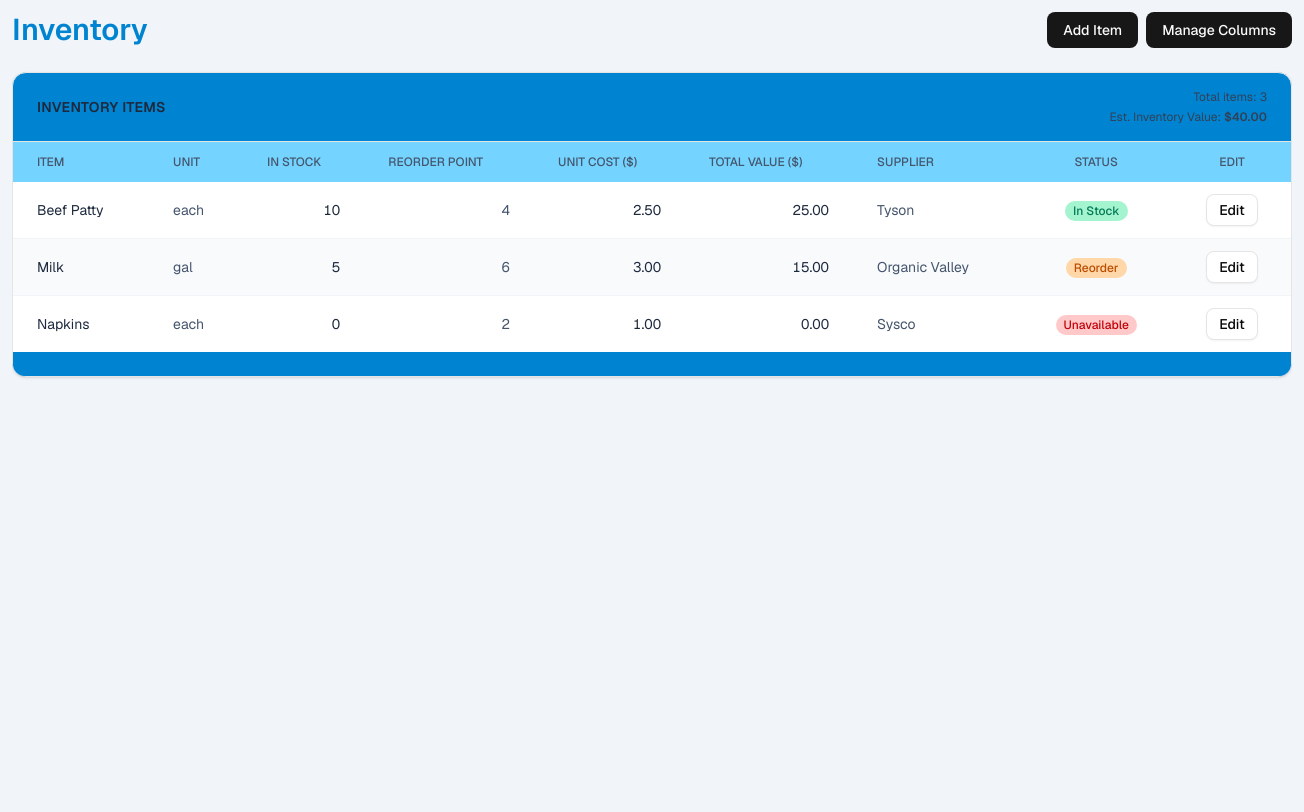
Test: InventoryPage › creates a new inventory item
Expected: the text "Beef Patty" is shown, [13, 182, 149, 238]
Click the button "Add Item" at (1093, 30), box [1047, 12, 1138, 48]
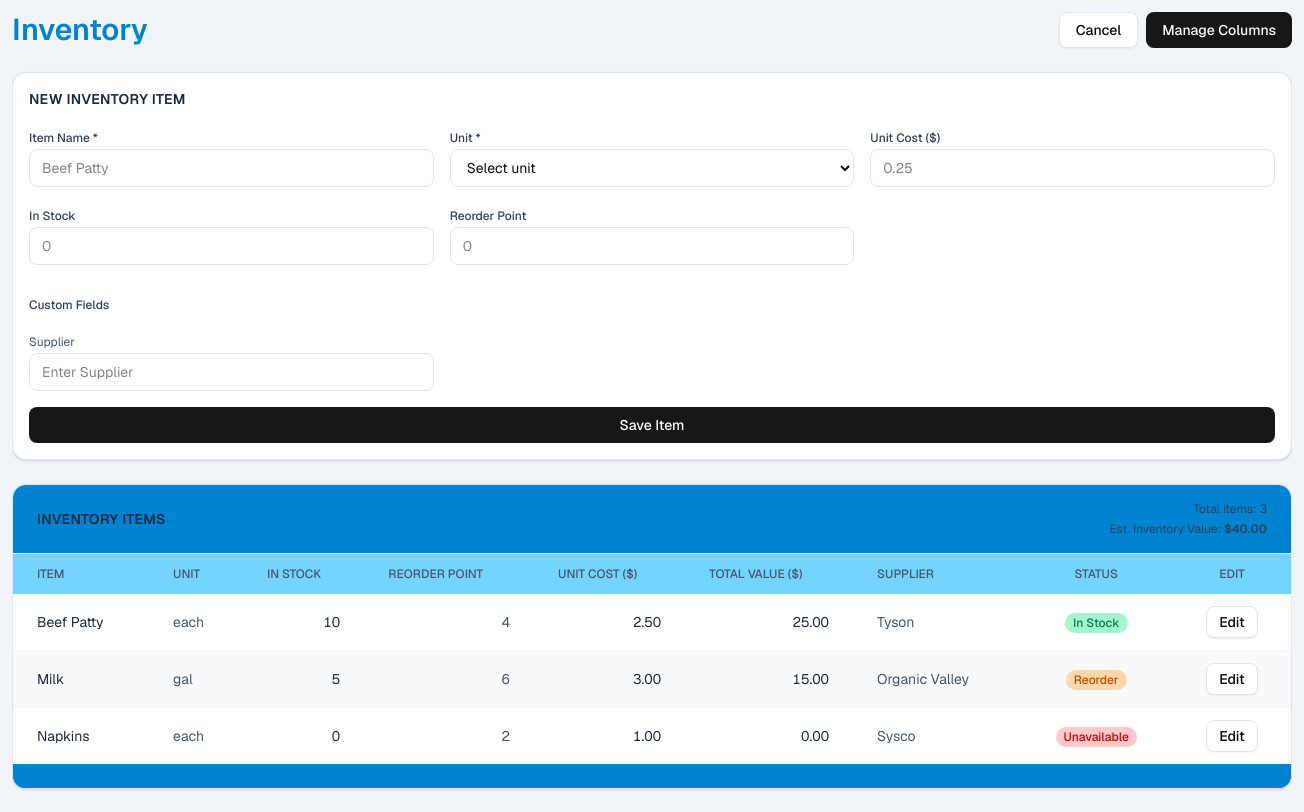
Type "Cheese" into the field with placeholder "Beef Patty" at (231, 168), box [29, 149, 434, 187]
Select "lb" in the dropdown at (652, 168), box [450, 149, 854, 187]
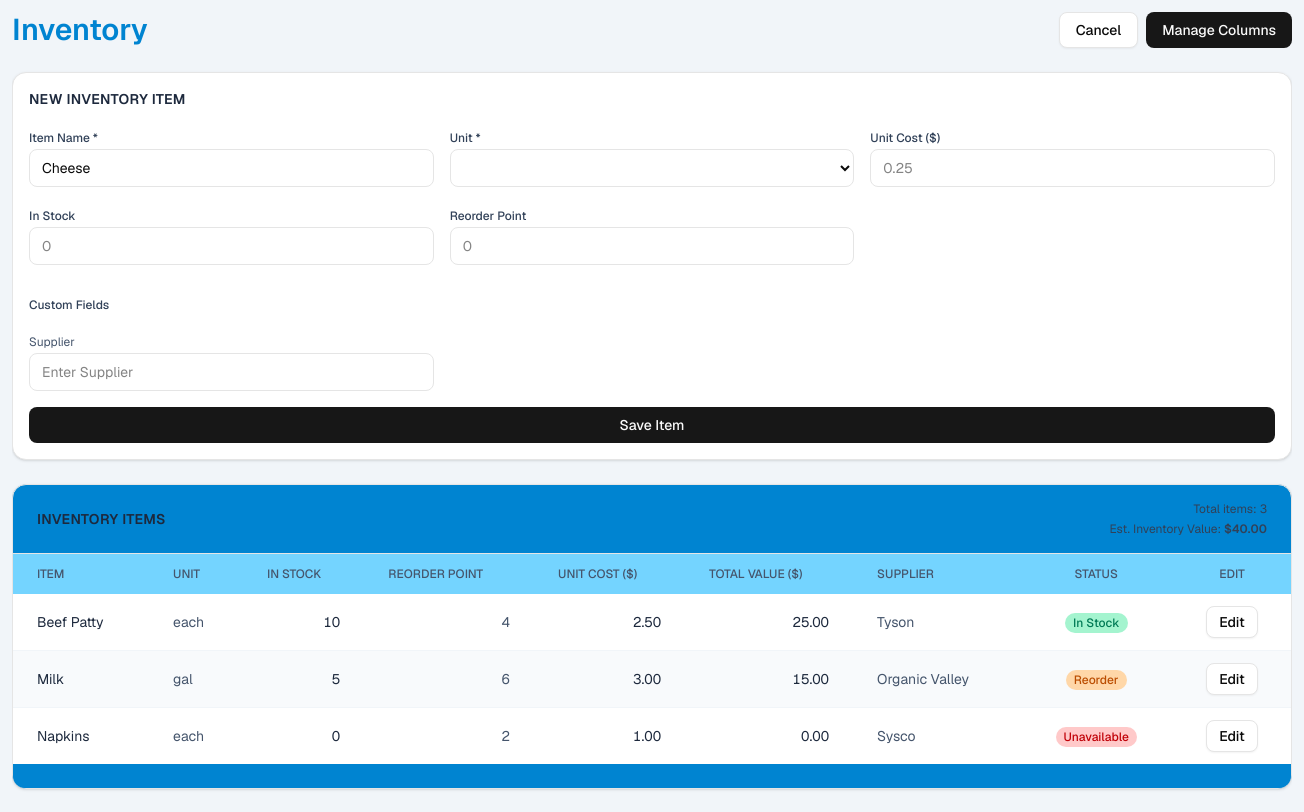
Type "4.25" into the number field with placeholder "0.25" at (1073, 168), box [870, 149, 1275, 187]
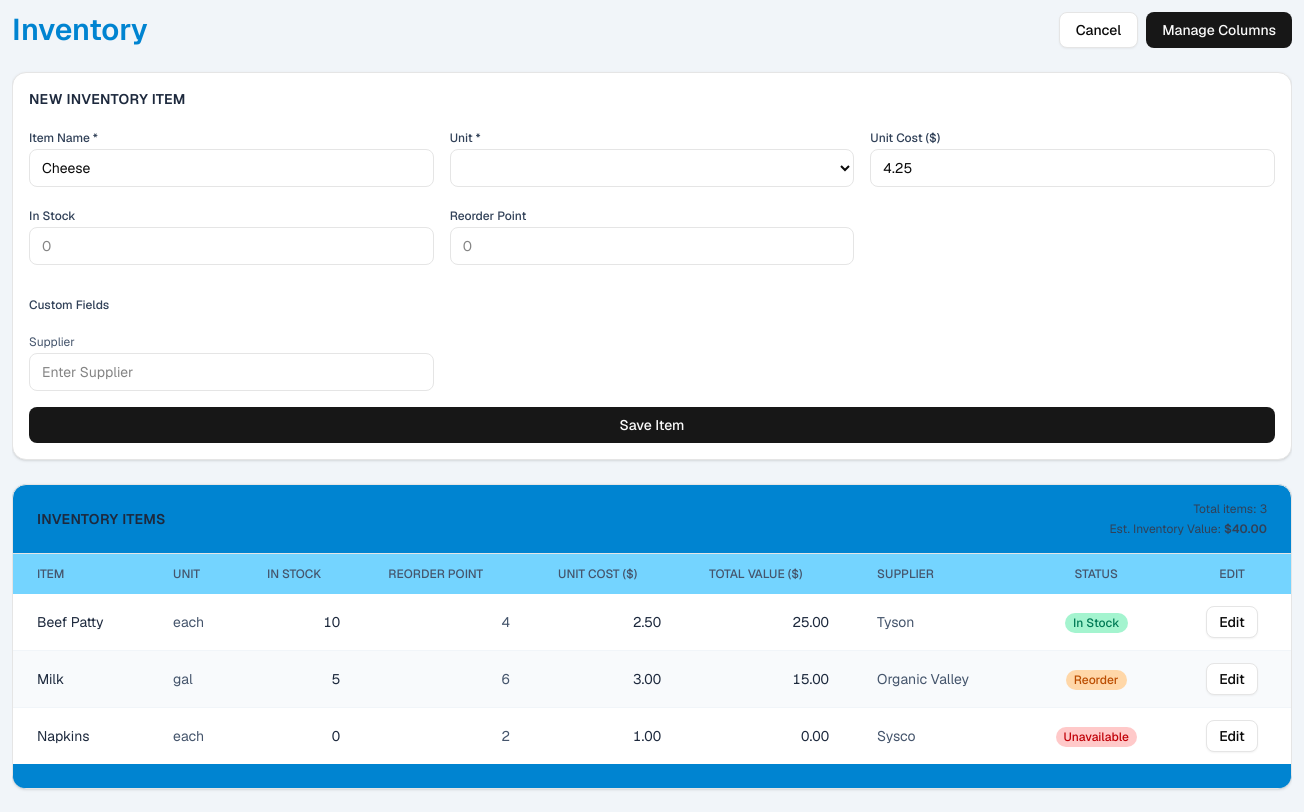
Type "7" into the 1st number field with placeholder "0" at (231, 246), box [29, 227, 434, 265]
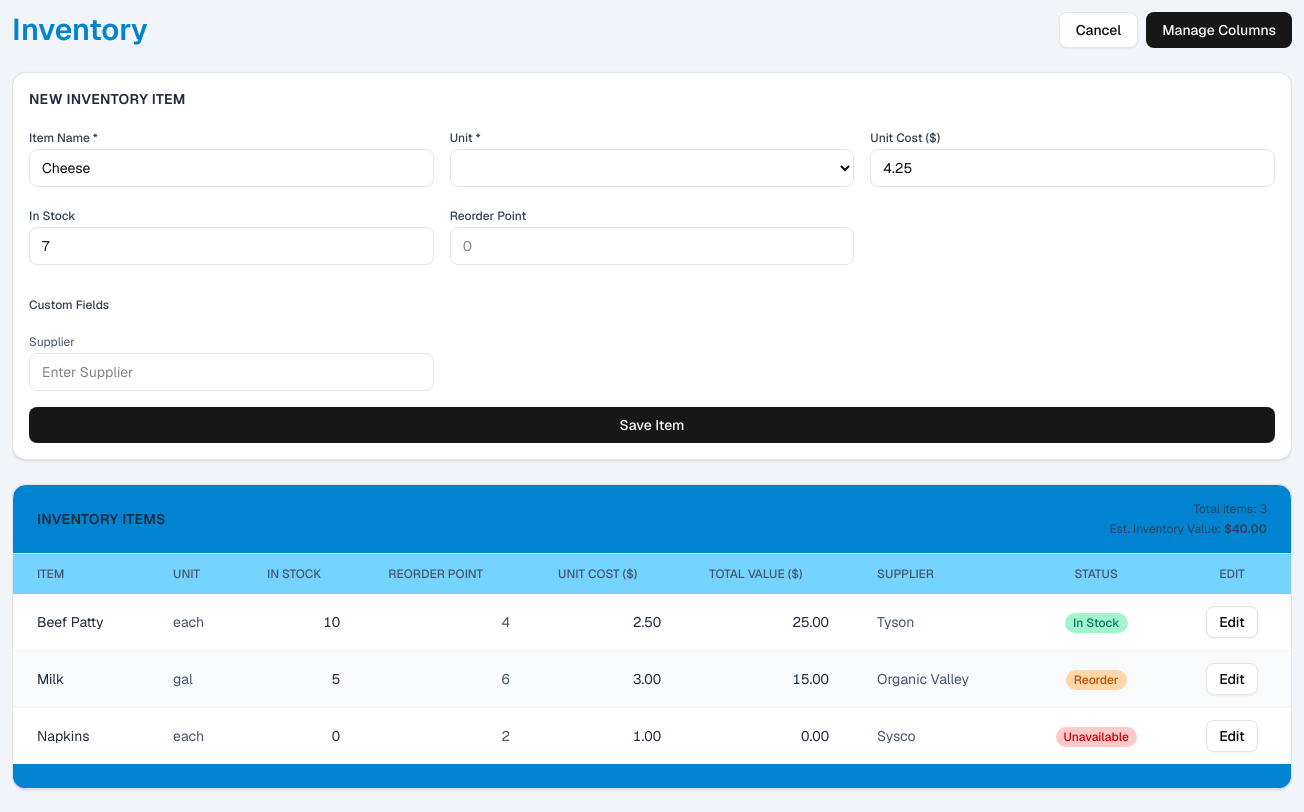
Type "2" into the number field with placeholder "0" at (652, 246), box [450, 227, 854, 265]
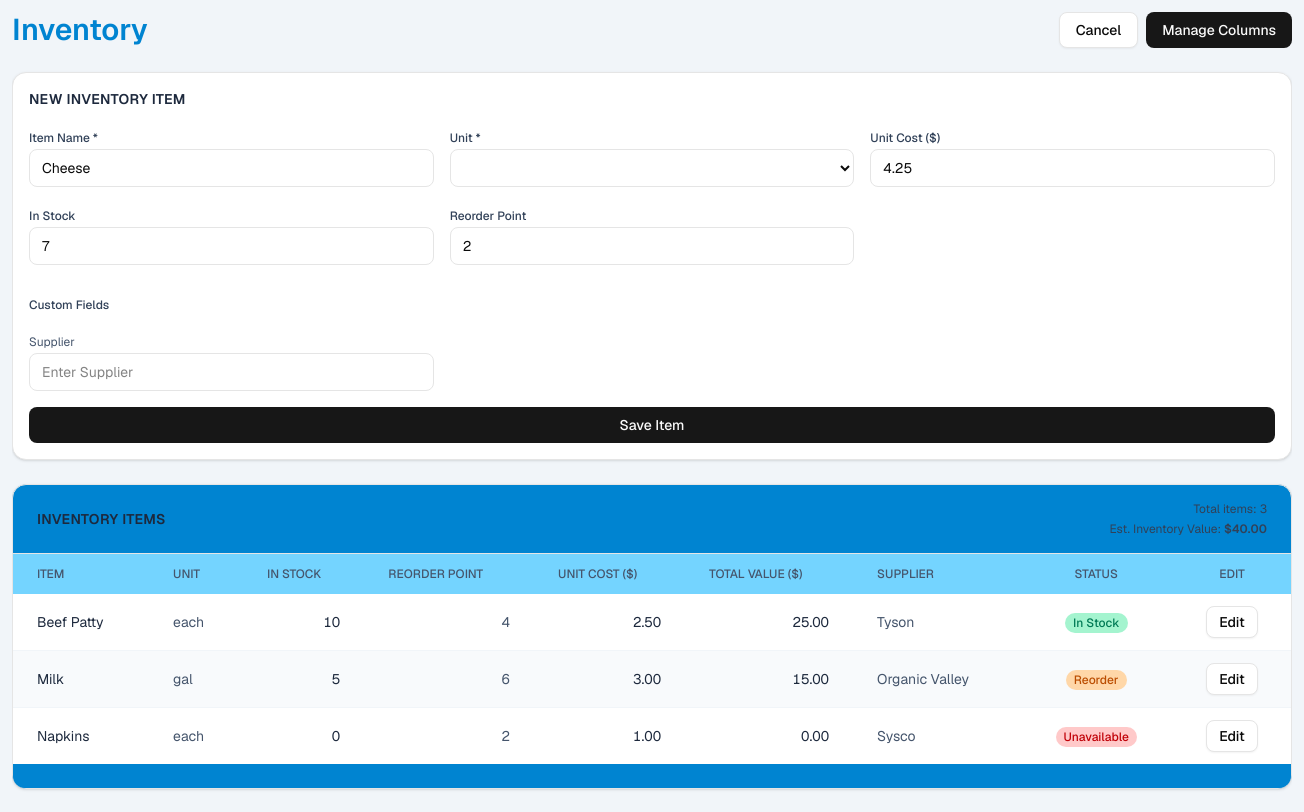
Click the button "Save Item" at (652, 425), box [29, 407, 1275, 443]
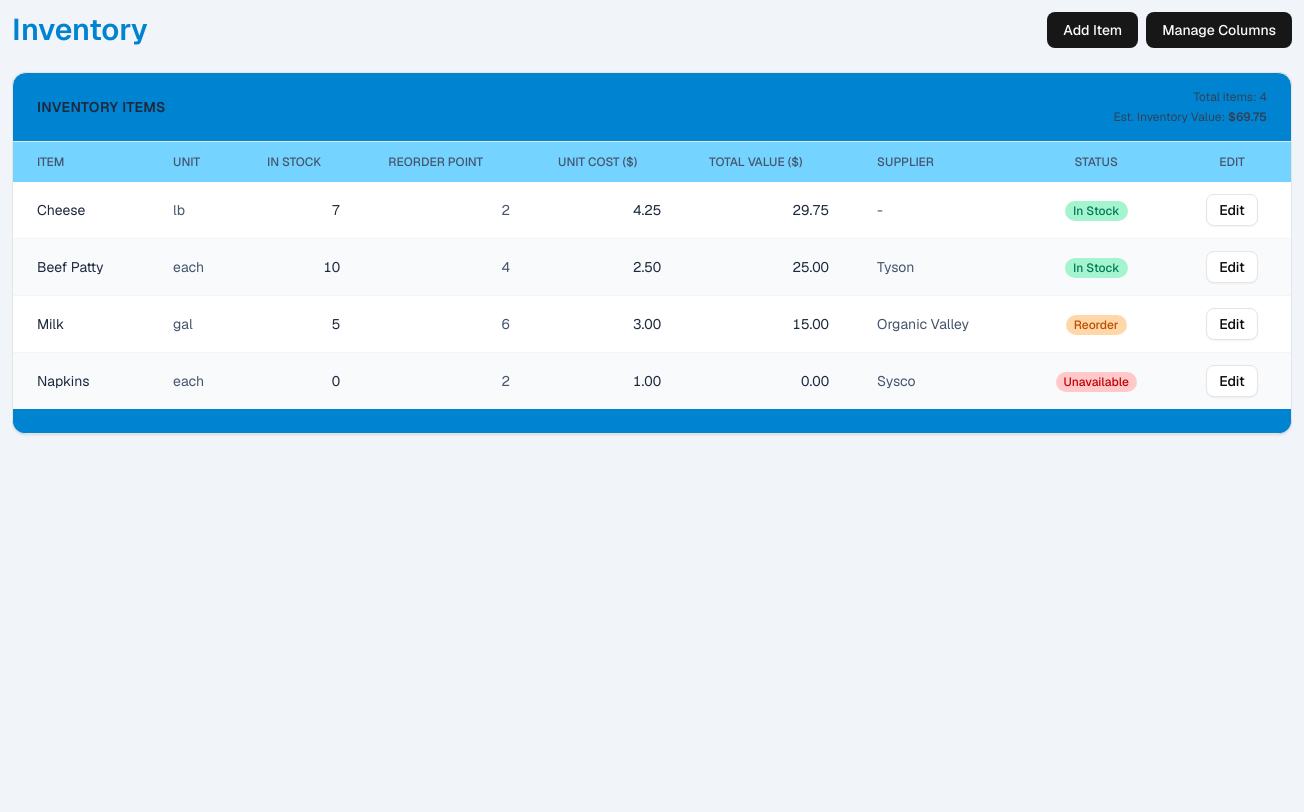
Expected: the text "Cheese" is shown, [13, 182, 149, 238]
